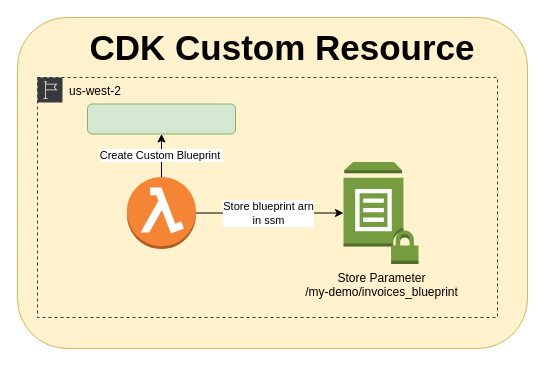
This 545x366 diagram has some shape labels left out. The centre of each missing label's shape, as x and y in pixels:
"create_blueprint_cr Custom resource Lambda" goes at [161,212].
"invoices_blueprint.json" goes at [161,118].
